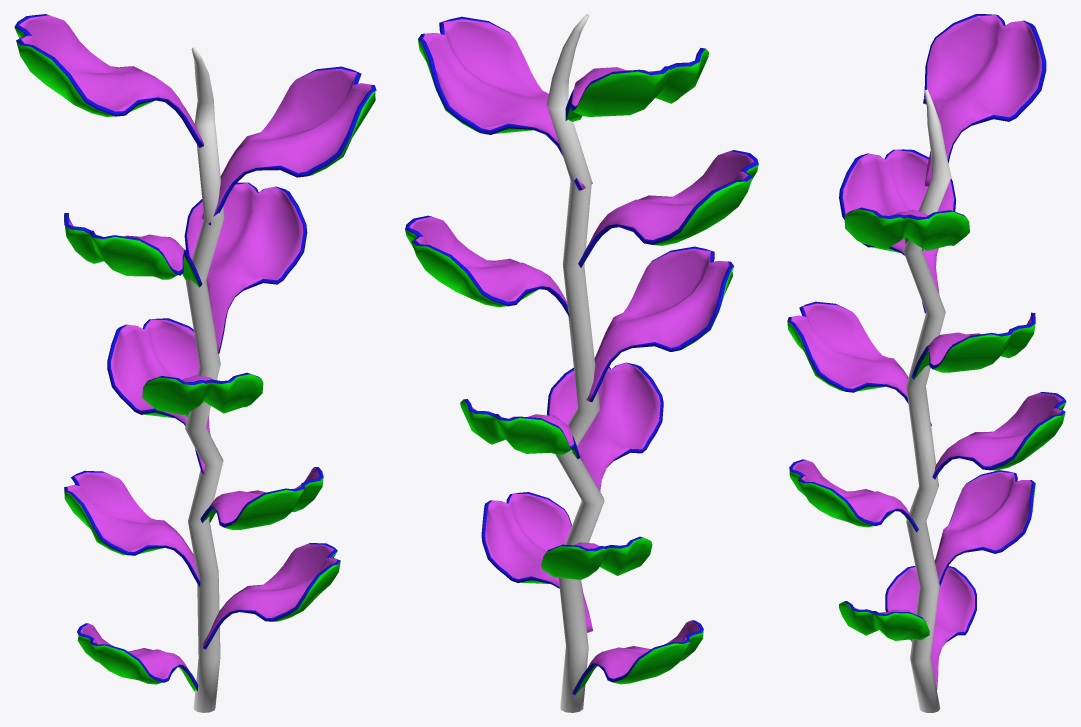
File: LongPlantleavesTRfbx (1).fbx
3 renders of one model, left to right at view 1: azimuth 30°, elevation 25°; view 2: azimuth 150°, elevation 25°; view 3: azimuth 270°, elevation 25°, orthographic. The views are drawn at different scales.
Visible parts, largest first — view 1: Circle.058, Cylinder.007; view 2: Circle.058, Cylinder.007; view 3: Circle.058, Cylinder.007.
Boxes of the visible parts, left/top/right/bottom form: Circle.058: left=14, top=14, right=376, bottom=691; Cylinder.007: left=185, top=47, right=224, bottom=712; Circle.058: left=405, top=16, right=758, bottom=695; Cylinder.007: left=547, top=14, right=604, bottom=712; Circle.058: left=787, top=14, right=1066, bottom=689; Cylinder.007: left=903, top=89, right=951, bottom=712.
Bounding box in the file's own units: 337 × 720 × 290.
